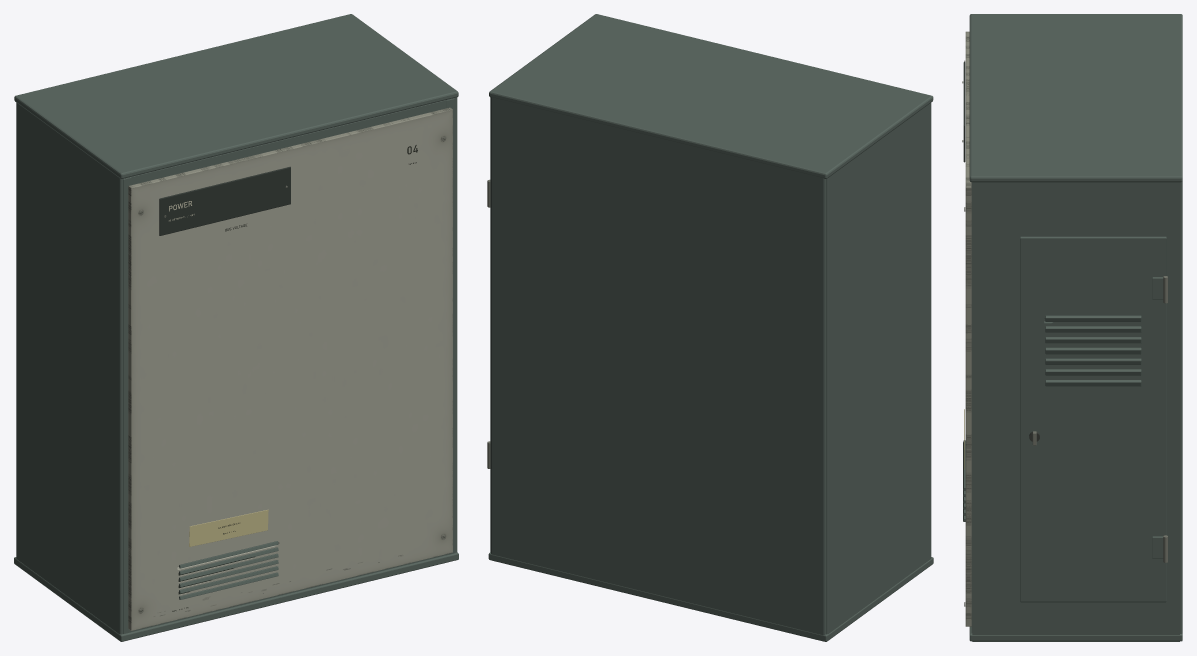
The model's file is POWER_Cabinet.fbx.
The picture shows the model from 3 angles, left to right: view 1: azimuth 30°, elevation 25°; view 2: azimuth 150°, elevation 25°; view 3: azimuth 270°, elevation 25°; orthographic projection.
Visible parts, largest first — view 1: POWER_Cabinet_EXPORT; view 2: POWER_Cabinet_EXPORT; view 3: POWER_Cabinet_EXPORT.
Part boxes in pixels (box(x1,y1,x2,y2)): POWER_Cabinet_EXPORT: box(14, 14, 458, 641); POWER_Cabinet_EXPORT: box(487, 14, 933, 641); POWER_Cabinet_EXPORT: box(962, 14, 1182, 641).
Bounding box in the file's own units: 1.85 × 2.4 × 1.02.
Materials: 9 (1 with a texture image).
